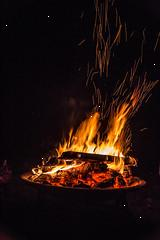fire: (40, 113, 133, 179)
